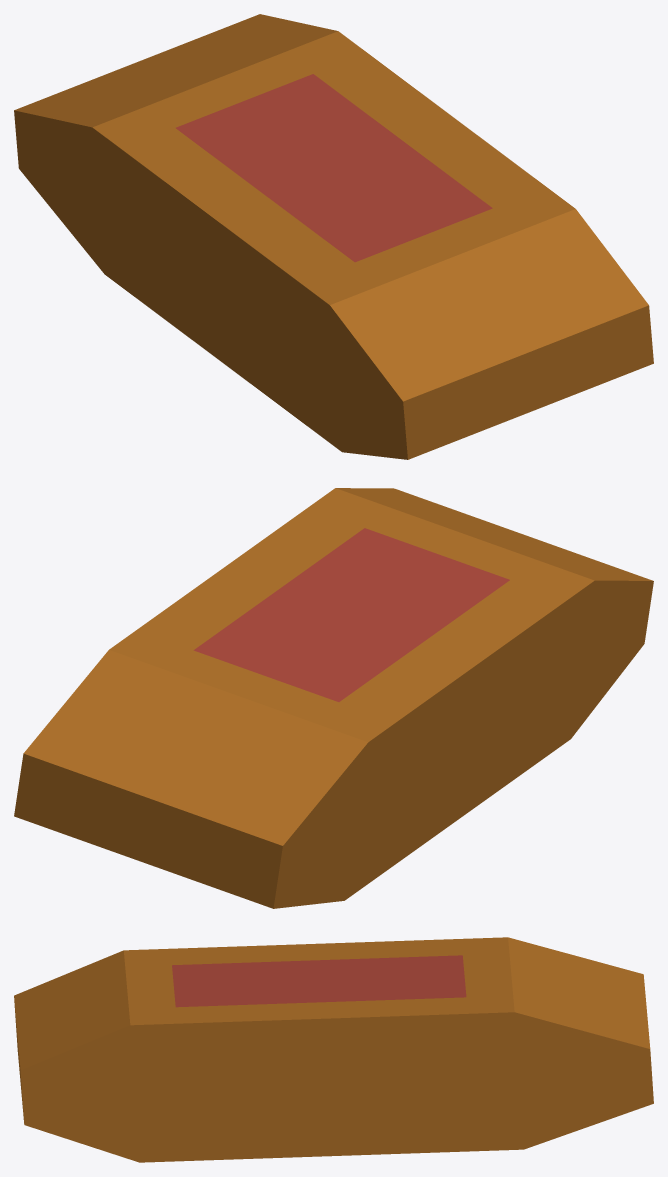
File: SM_Prop_Snack_10.fbx
3 renders of one model, top to bottom at view 1: azimuth 30°, elevation 25°; view 2: azimuth 150°, elevation 25°; view 3: azimuth 270°, elevation 25°, orthographic. The views are drawn at different scales.
Visible parts, largest first — view 1: SM_Prop_Snack_10; view 2: SM_Prop_Snack_10; view 3: SM_Prop_Snack_10.
Part boxes in pixels (<box>): SM_Prop_Snack_10: <box>14,14,653,459</box>; SM_Prop_Snack_10: <box>14,488,653,908</box>; SM_Prop_Snack_10: <box>14,937,653,1162</box>.
Size of the model in its own units: 6.26 by 4.33 by 15.03.
